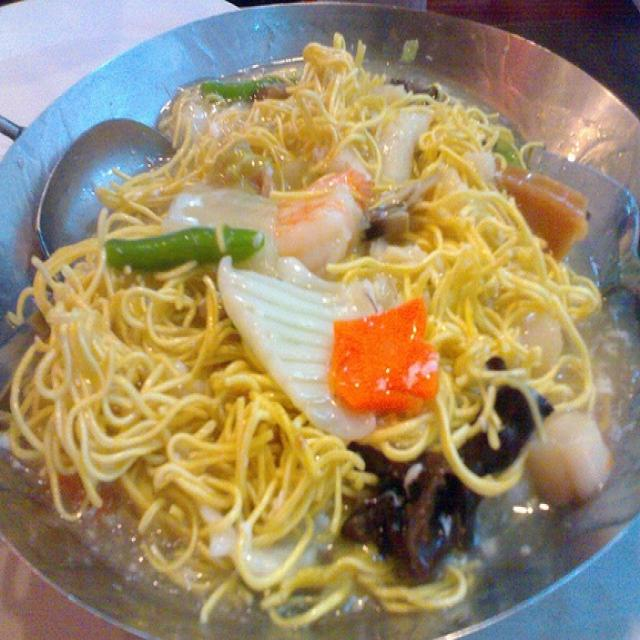面条主食: (10, 27, 621, 618)
